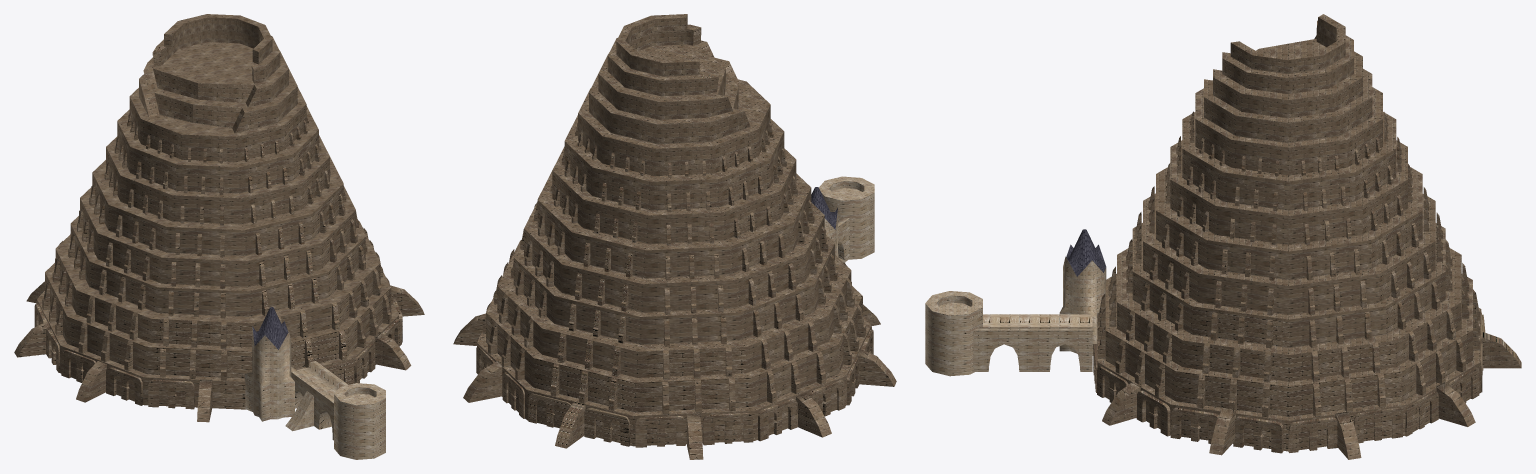
The model's file is Tower.obj.
3 renders of one model, left to right at view 1: azimuth 30°, elevation 25°; view 2: azimuth 150°, elevation 25°; view 3: azimuth 270°, elevation 25°, orthographic. The views are drawn at different scales.
Parts seen in each view (by area): view 1: Line027, Object001, Line013, Line014, Line015, Object002, Line016; view 2: Line027, Object001, Line013, Line015, Object002; view 3: Line027, Object001, Line015, Line013, Line014, Object002.
Part boxes in pixels (<box>): Line027: <box>37,14,398,409</box>; Object001: <box>14,113,424,422</box>; Line013: <box>334,383,385,459</box>; Line014: <box>244,328,294,421</box>; Line015: <box>291,361,347,440</box>; Object002: <box>252,307,288,349</box>; Line016: <box>285,391,313,431</box>; Line027: <box>477,14,871,446</box>; Object001: <box>453,122,896,459</box>; Line013: <box>819,176,874,259</box>; Line015: <box>838,218,849,261</box>; Object002: <box>811,187,837,229</box>; Line027: <box>1097,14,1481,451</box>; Object001: <box>1093,111,1521,459</box>; Line015: <box>973,314,1092,371</box>; Line013: <box>925,291,982,376</box>; Line014: <box>1059,256,1106,355</box>; Object002: <box>1066,229,1106,276</box>.
Bounding box in the file's own units: 44.24 × 36.61 × 59.37.
